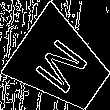M_SE: (29, 31, 93, 97)
